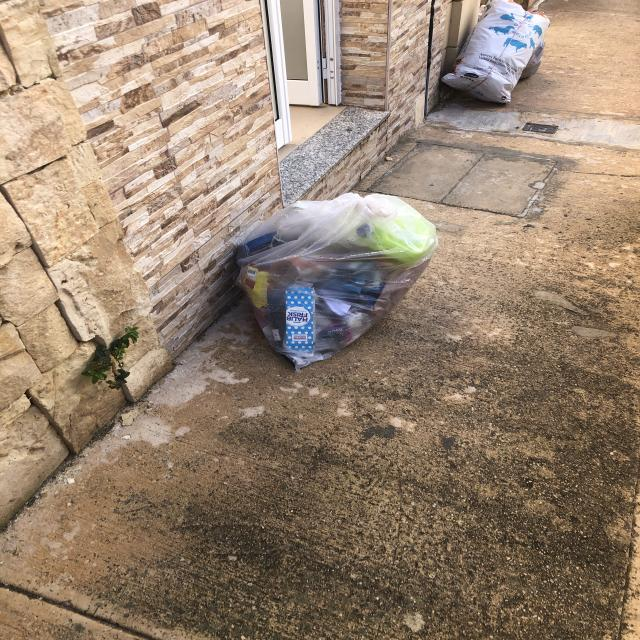Other: (442, 1, 552, 105)
Recycled Waste -Grey or Green Bag-: (229, 190, 441, 373)
